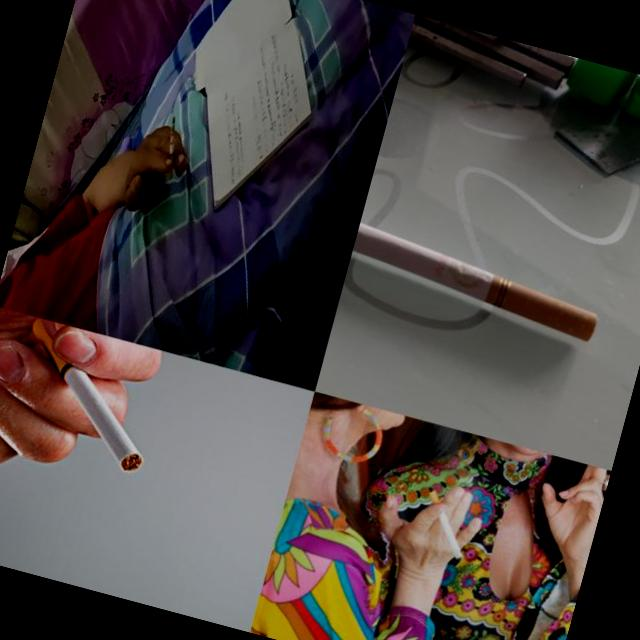cigarette: (346, 216, 606, 342), (0, 316, 172, 478), (409, 483, 482, 568), (156, 115, 187, 181)
